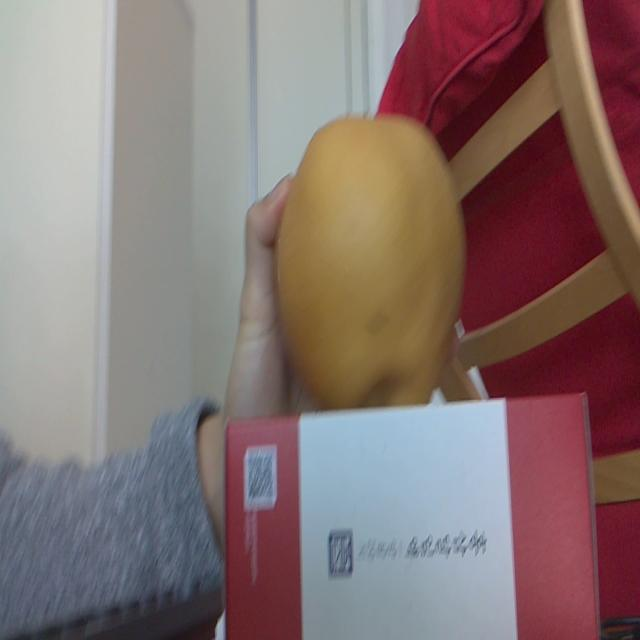pear: (274, 116, 470, 412)
